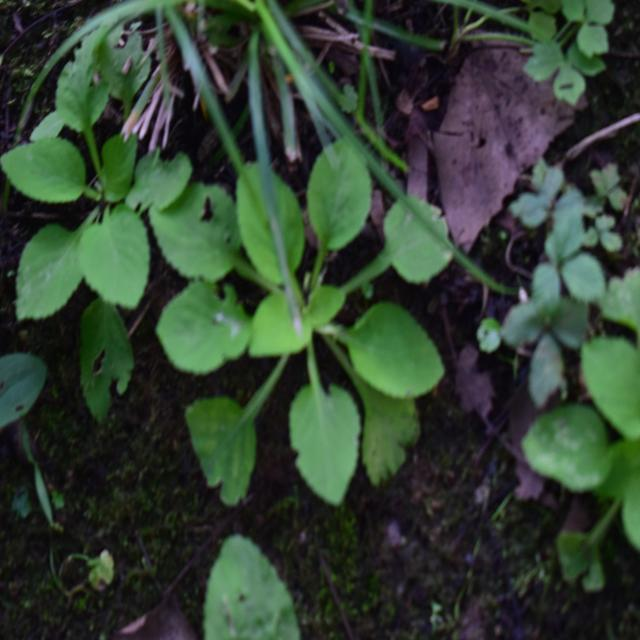Viola: (181, 144, 433, 476)
